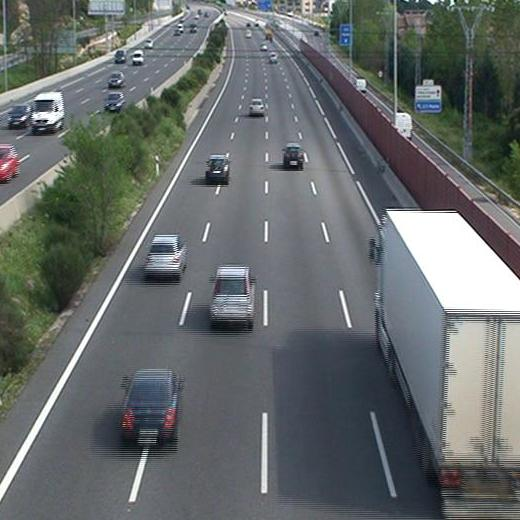car: (120, 369, 181, 445), (210, 264, 256, 327), (144, 235, 187, 280), (205, 156, 230, 182), (282, 145, 305, 168), (249, 98, 265, 116), (268, 52, 279, 63)
truck: (373, 206, 520, 517)
